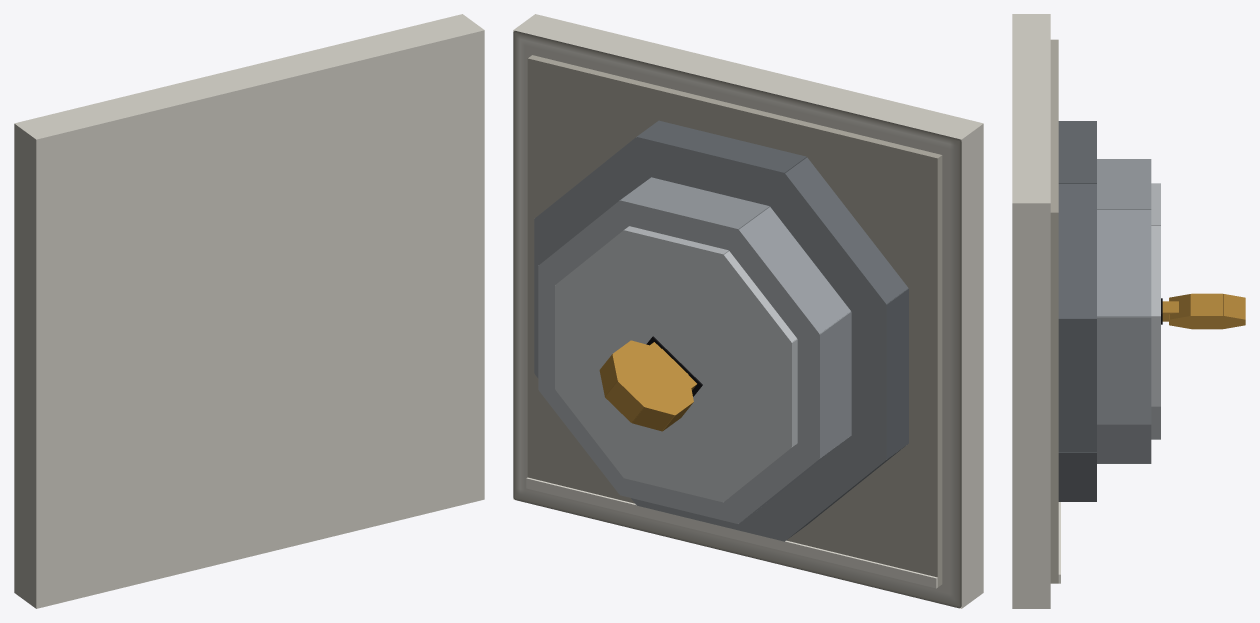
Rendered from key_switch_close_key.obj.
3 views of the same model, side by side, from view 1: azimuth 30°, elevation 25°; view 2: azimuth 150°, elevation 25°; view 3: azimuth 270°, elevation 25° (orthographic). The views are drawn at different scales.
Visible parts, largest first — view 1: Panel; view 2: Knob, Panel, Key; view 3: Knob, Panel, Key.
Boxes of the visible parts, left/top/right/bottom form: Panel: left=14, top=14, right=484, bottom=608; Knob: left=534, top=120, right=908, bottom=541; Panel: left=513, top=14, right=983, bottom=608; Key: left=599, top=340, right=696, bottom=431; Knob: left=1058, top=121, right=1162, bottom=501; Panel: left=1012, top=14, right=1060, bottom=608; Key: left=1162, top=293, right=1245, bottom=329.
Bounding box in the file's own units: 0.875 × 0.875 × 0.4563.
1 material, 1 textured.
